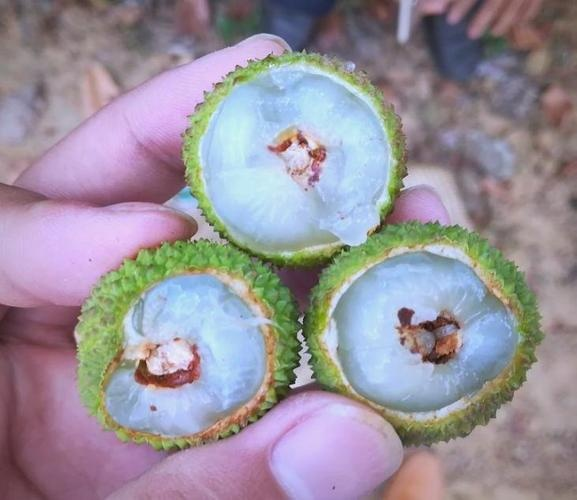Borer: (278, 121, 319, 177), (417, 317, 459, 357), (136, 290, 163, 352)
